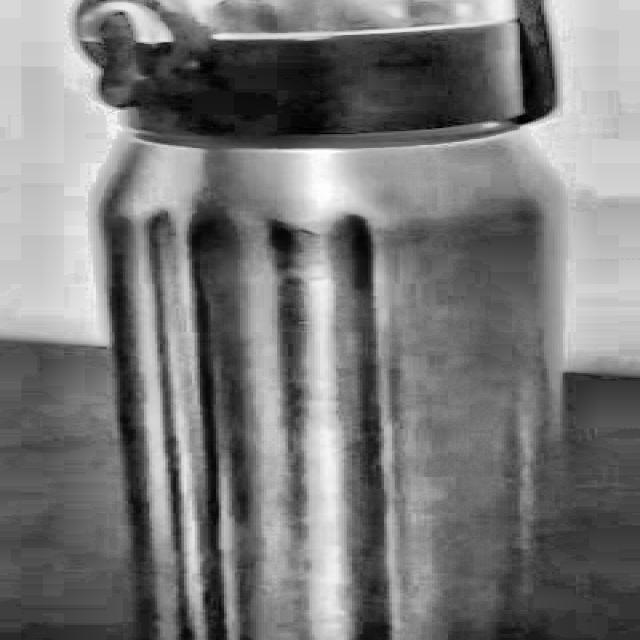bottle: (83, 0, 565, 640)
